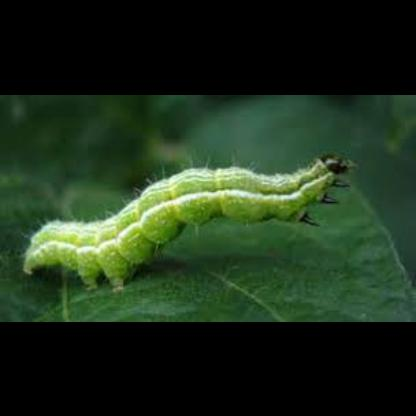oruga: (18, 146, 358, 294)
